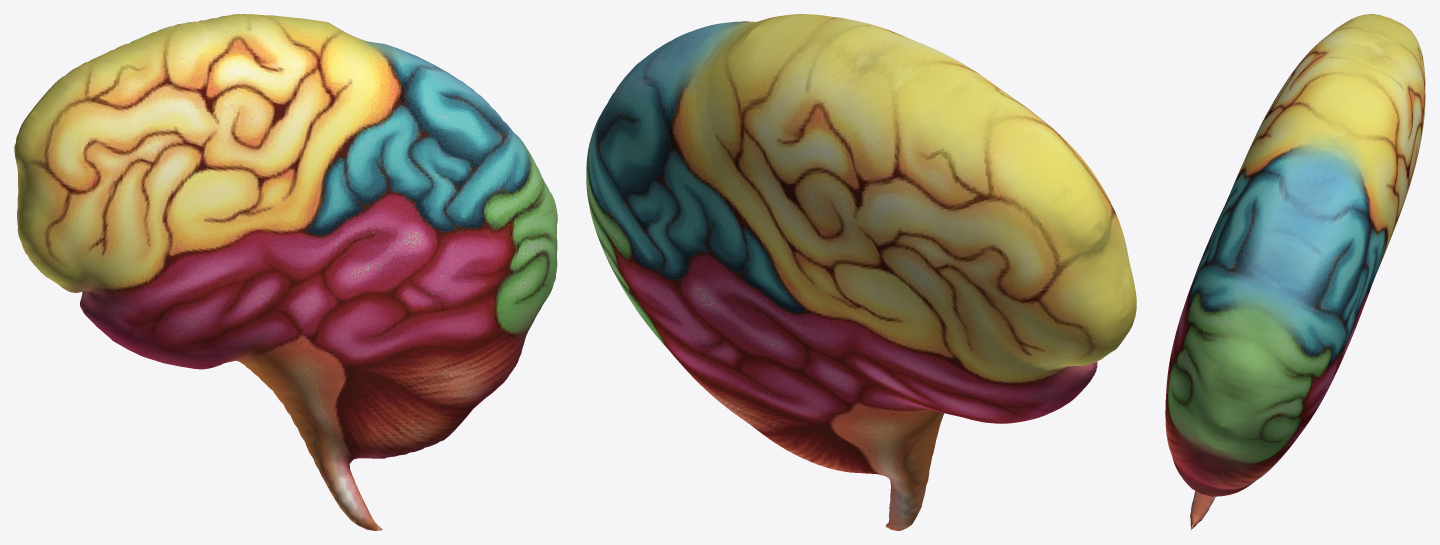
The model's file is otak-besar-630x380.glb.
3 renders of one model, left to right at view 1: azimuth 30°, elevation 25°; view 2: azimuth 150°, elevation 25°; view 3: azimuth 270°, elevation 25°, orthographic. The views are drawn at different scales.
Parts seen in each view (by area): view 1: mesh_id26; view 2: mesh_id26; view 3: mesh_id26.
Part boxes in pixels (x1,y1,x2,y2): mesh_id26: [14, 14, 557, 530]; mesh_id26: [586, 14, 1136, 530]; mesh_id26: [1165, 14, 1425, 530].
Size of the model in its own units: 0.9088 by 0.8512 by 0.4483.
Materials: 1 (1 with a texture image).
